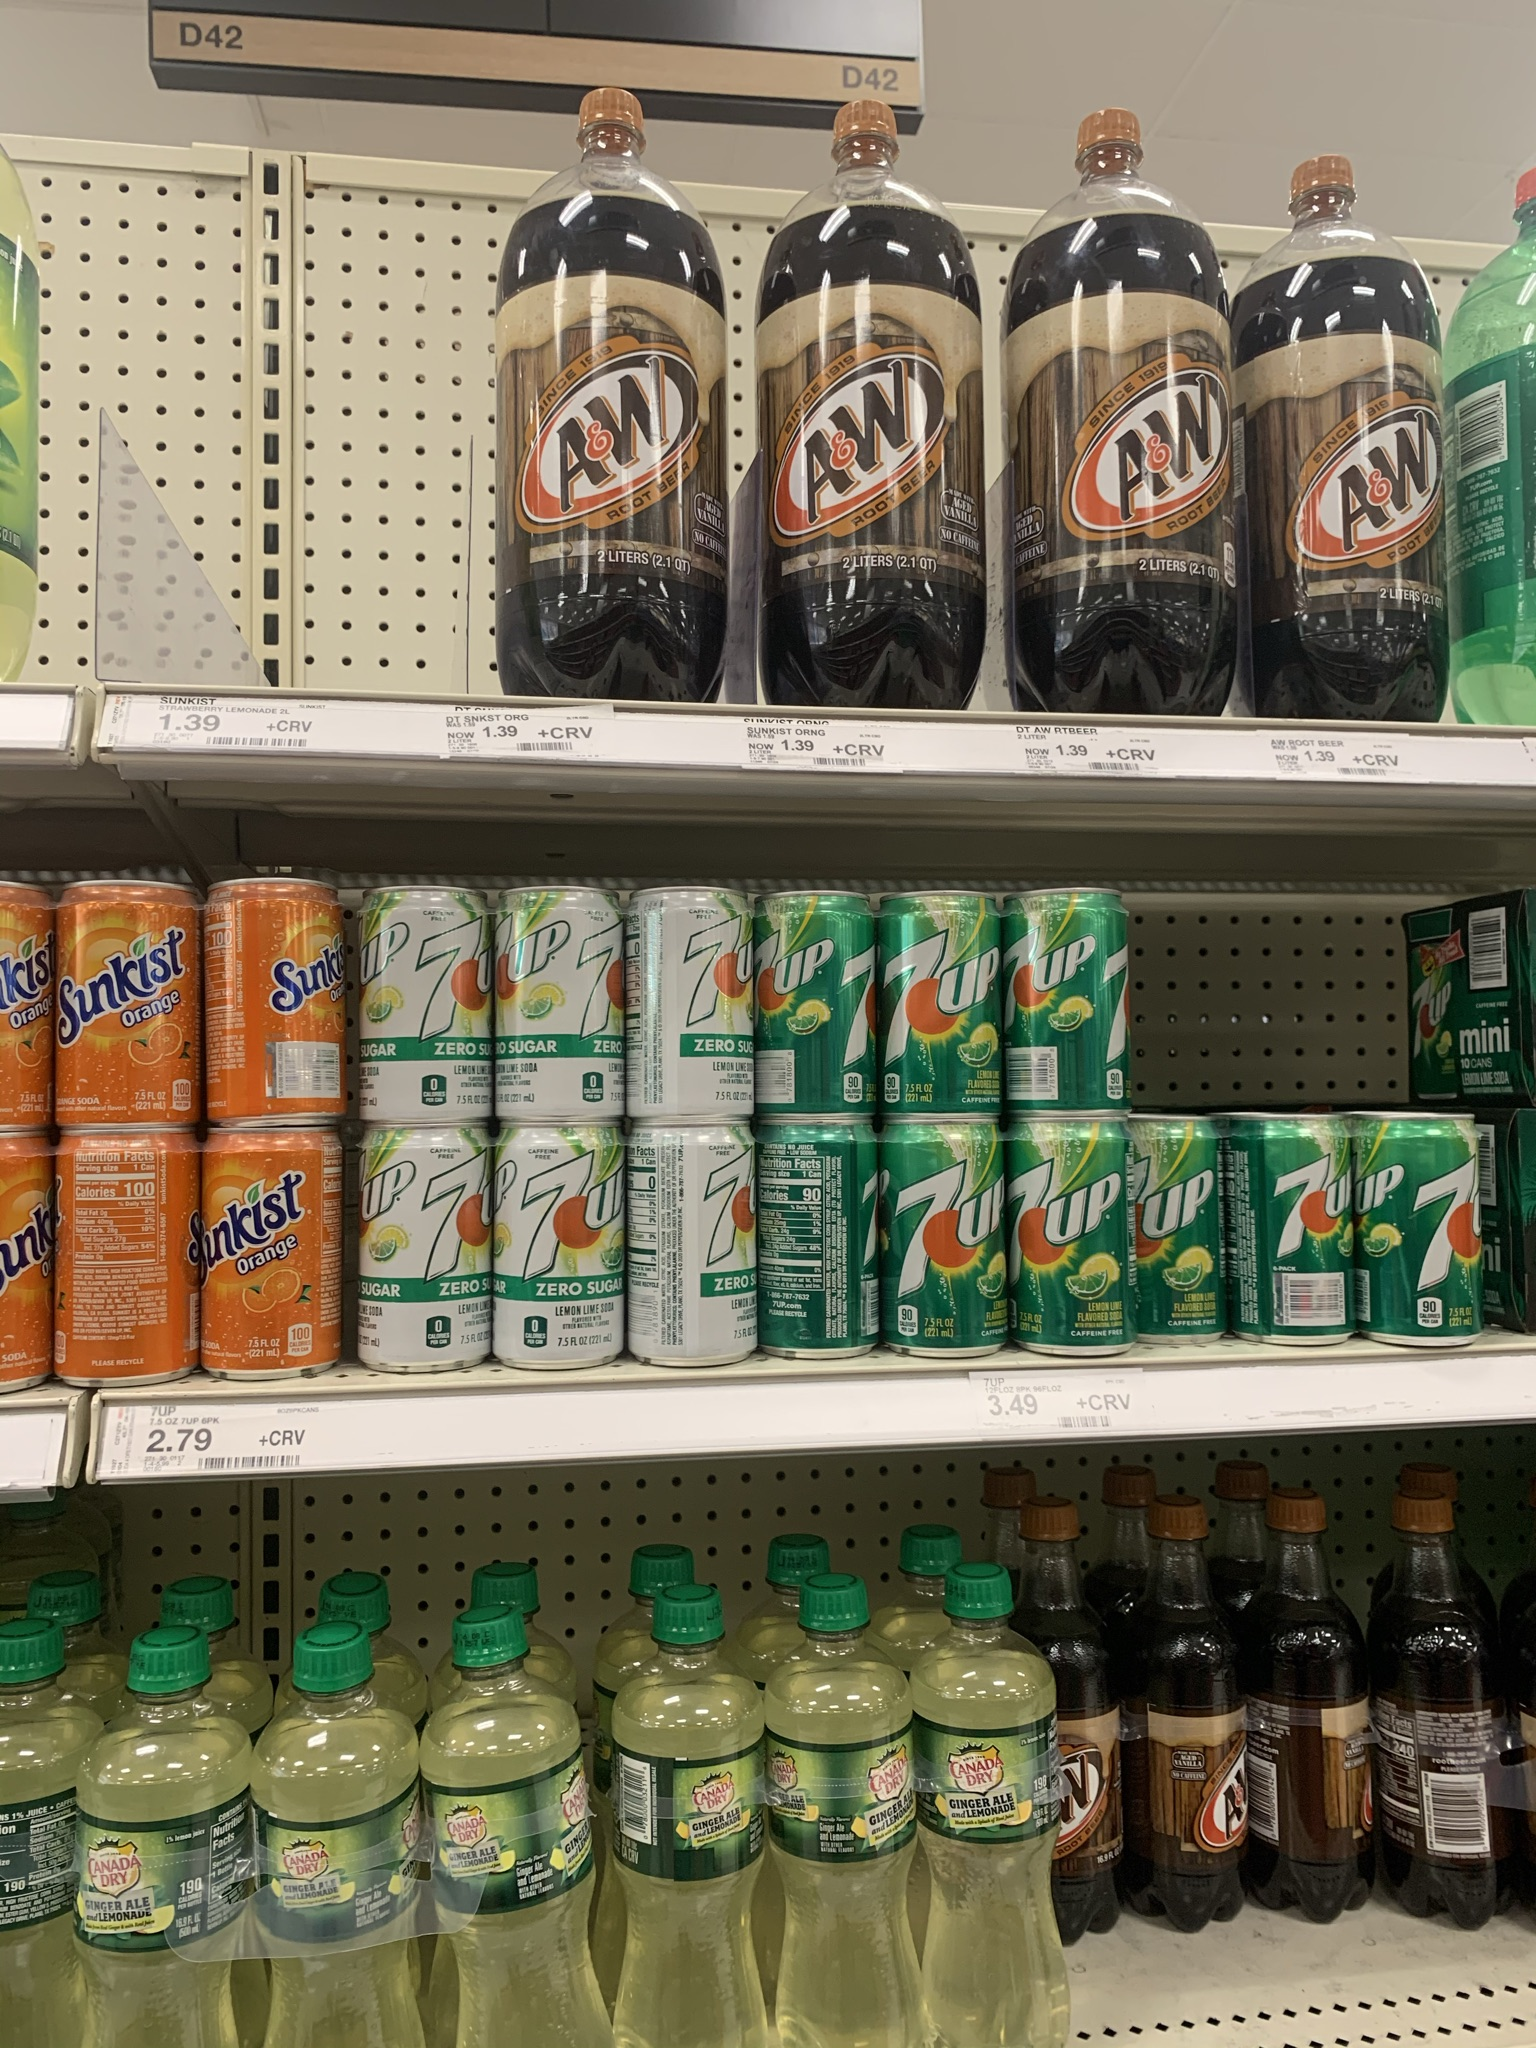Soda: (495, 82, 733, 706), (1004, 110, 1242, 718), (758, 98, 987, 711), (1242, 156, 1454, 718), (426, 1611, 607, 2048), (605, 1587, 771, 2048), (913, 1567, 1070, 2048), (77, 1630, 252, 2048), (250, 1629, 423, 2048), (773, 1577, 916, 2046), (1121, 1495, 1250, 1940), (1376, 1487, 1501, 1934), (1258, 1488, 1376, 1925), (203, 872, 352, 1132), (53, 1126, 198, 1384), (58, 879, 202, 1134), (344, 879, 489, 1126), (352, 1122, 489, 1372), (629, 1114, 762, 1367), (490, 1122, 624, 1372), (203, 1130, 337, 1377), (1352, 1106, 1484, 1350), (883, 1116, 1008, 1363), (1008, 1113, 1136, 1356), (874, 887, 1004, 1121), (757, 1114, 878, 1363), (628, 884, 757, 1116), (495, 880, 620, 1118), (1005, 884, 1133, 1113), (1244, 1109, 1359, 1347), (763, 887, 874, 1111), (1136, 1114, 1225, 1347)
